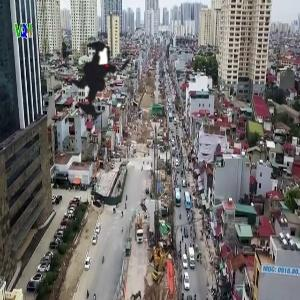drone: (42, 21, 165, 144)
